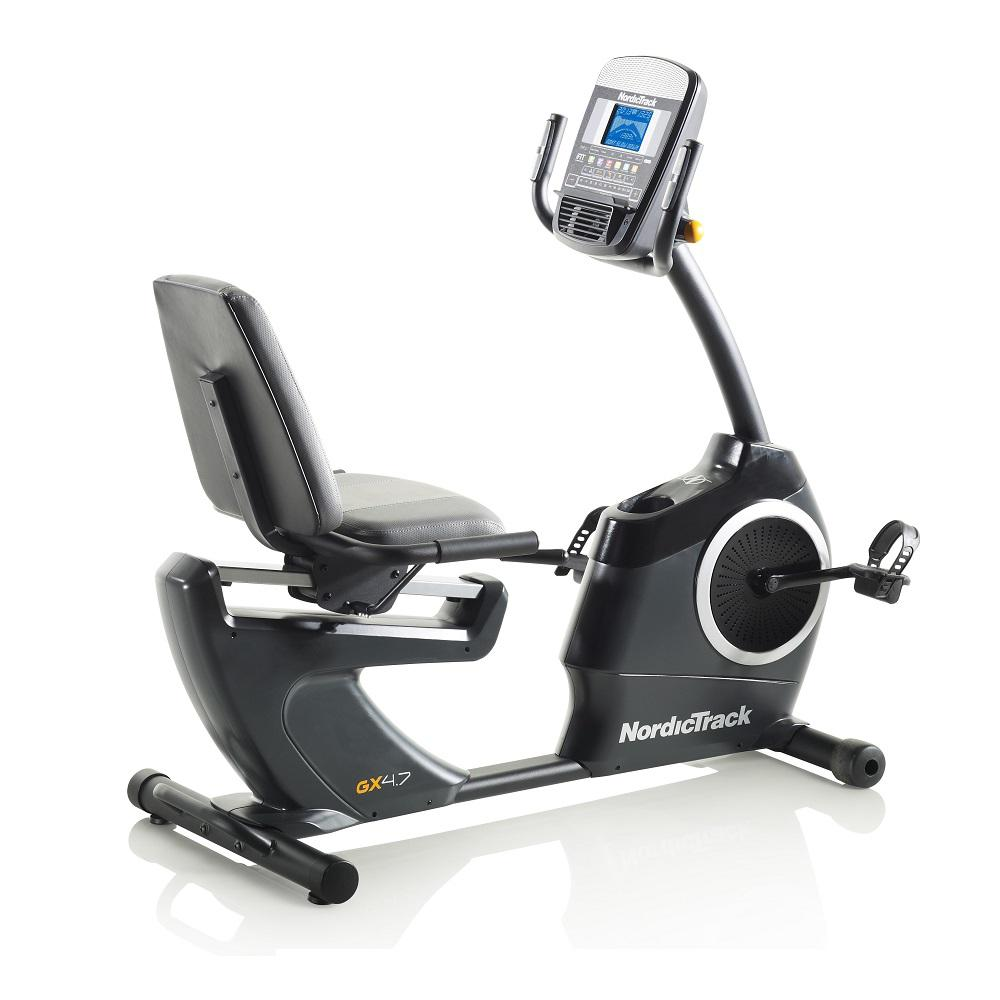gym_bike: (129, 53, 917, 899)
